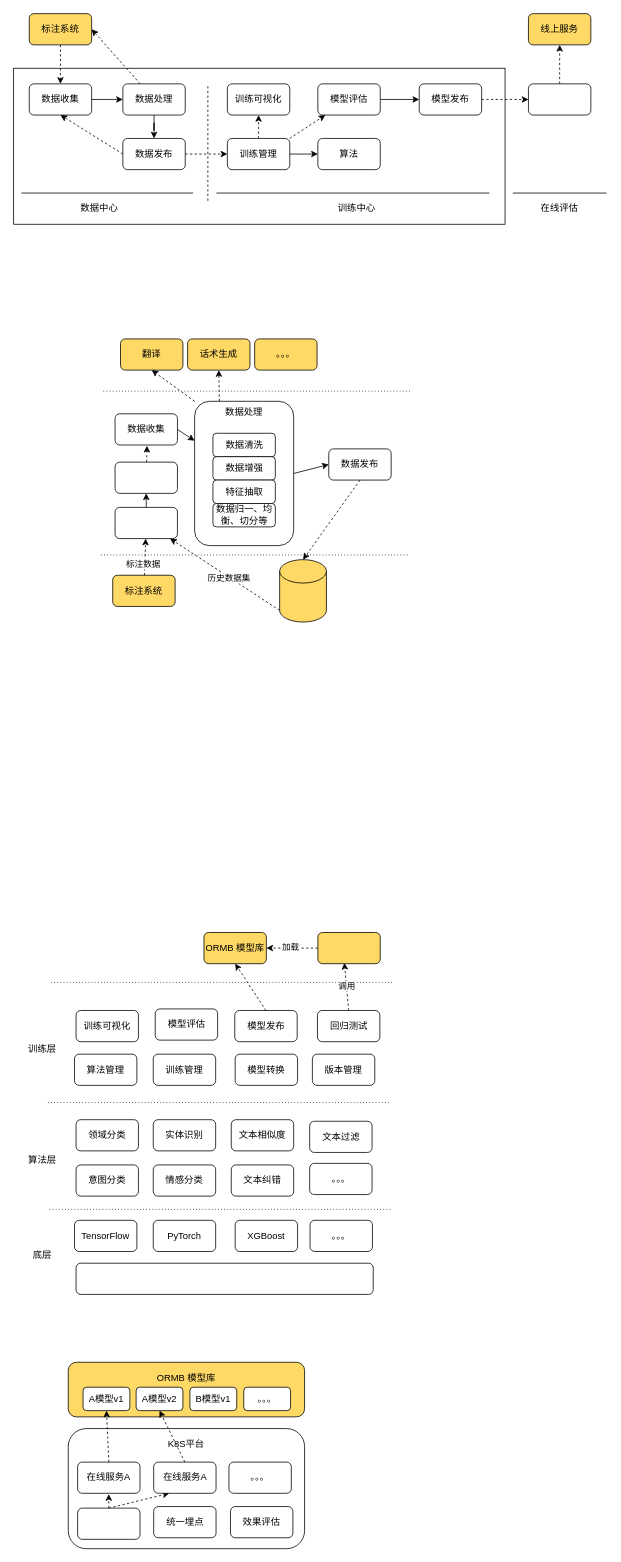
Some shapes in this 621 by 1562 pixel diagram are drawn without their labels. The shapes that lost their labels are listed below. From the top down, each one's centre as x and y in pixels, then its label:
At point (559, 99): "模型库".
At point (145, 477): "数据ETL".
At point (145, 523): "本地文件系统".
At point (302, 590): "对象存储服务".
At point (348, 948): "在线仿真重现".
At point (224, 1278): "Gpu/Cpu/Arm/。。。".
At point (108, 1523): "在线策略".
